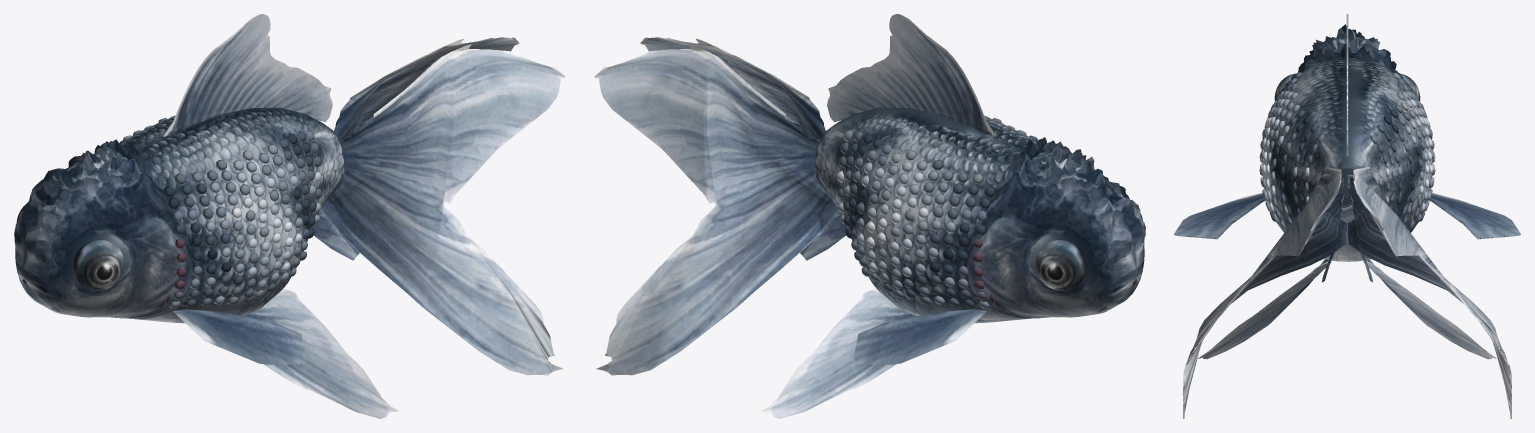
The model's file is horyu.glb.
3 renders of one model, left to right at view 1: azimuth 30°, elevation 25°; view 2: azimuth 150°, elevation 25°; view 3: azimuth 270°, elevation 25°, orthographic. The views are drawn at different scales.
Visible parts, largest first — view 1: caudal_near, body, pearls, wen, dorsal, pelvic_near, pectoral_near, caudal_far, eye_near, gill_near, anal_near; view 2: caudal_far, body, pearls, wen, dorsal, pelvic_far, pectoral_far, caudal_near, eye_far, gill_far, anal_far; view 3: body, caudal_near, caudal_far, pearls, wen, pelvic_near, pelvic_far, pectoral_far, pectoral_near, dorsal.
Part boxes in pixels (x1=…): caudal_near: x1=328, y1=44, x2=565, y2=375; body: x1=15, y1=107, x2=344, y2=323; pearls: x1=119, y1=115, x2=322, y2=308; wen: x1=14, y1=139, x2=157, y2=266; dorsal: x1=163, y1=14, x2=332, y2=136; pelvic_near: x1=244, y1=289, x2=398, y2=418; pectoral_near: x1=173, y1=309, x2=305, y2=364; caudal_far: x1=334, y1=37, x2=519, y2=139; eye_near: x1=73, y1=240, x2=124, y2=290; gill_near: x1=111, y1=207, x2=192, y2=318; anal_near: x1=312, y1=199, x2=359, y2=260; caudal_far: x1=594, y1=44, x2=831, y2=375; body: x1=815, y1=107, x2=1144, y2=323; pearls: x1=836, y1=115, x2=1037, y2=308; wen: x1=1002, y1=137, x2=1145, y2=266; dorsal: x1=827, y1=14, x2=996, y2=136; pelvic_far: x1=761, y1=289, x2=915, y2=418; pectoral_far: x1=853, y1=309, x2=986, y2=364; caudal_near: x1=640, y1=37, x2=825, y2=139; eye_far: x1=1035, y1=240, x2=1086, y2=290; gill_far: x1=966, y1=207, x2=1048, y2=318; anal_far: x1=800, y1=199, x2=847, y2=260; body: x1=1262, y1=57, x2=1432, y2=261; caudal_near: x1=1183, y1=167, x2=1346, y2=418; caudal_far: x1=1348, y1=167, x2=1511, y2=418; pearls: x1=1259, y1=72, x2=1435, y2=229; wen: x1=1298, y1=24, x2=1400, y2=74; pelvic_near: x1=1198, y1=259, x2=1331, y2=359; pelvic_far: x1=1363, y1=259, x2=1496, y2=359; pectoral_far: x1=1429, y1=192, x2=1520, y2=239; pectoral_near: x1=1174, y1=192, x2=1265, y2=239; dorsal: x1=1346, y1=14, x2=1348, y2=156.
Size of the model in its own units: 0.15 by 0.0981 by 0.095.
1 material, 1 textured.
